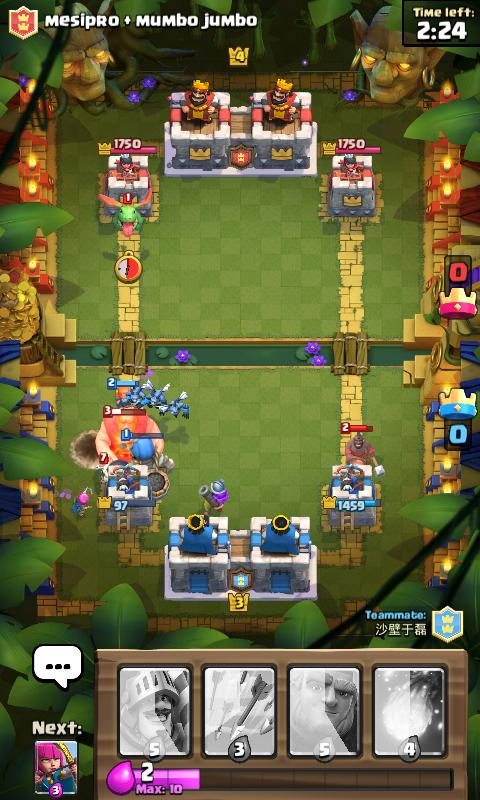EBabyDrag: (113, 189, 151, 237)
EGiant: (94, 412, 162, 459)
EHogRider: (346, 431, 374, 463)
EKingTower: (248, 79, 314, 173), (165, 80, 229, 172)
EnemyPrincessTower: (99, 139, 156, 222), (328, 139, 379, 215)
OArcher: (72, 487, 91, 516)
OGiantSkeleton: (132, 437, 173, 498)
OMusk: (199, 480, 227, 512)
OValk: (116, 383, 132, 407)
OwnKingTower: (168, 514, 229, 597), (250, 515, 310, 598)
OwnPrincessTower: (105, 464, 154, 529), (329, 465, 375, 530)
ominion: (147, 383, 169, 414), (126, 383, 149, 407), (169, 392, 188, 417)
